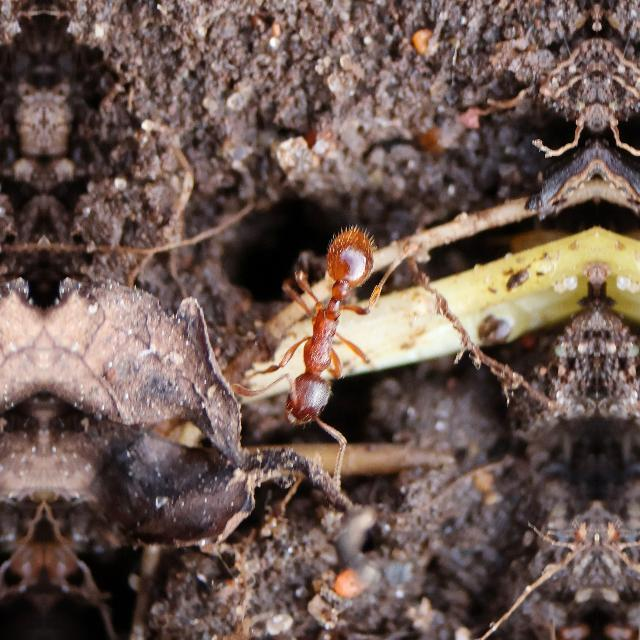Myrmica: (245, 191, 415, 459)
